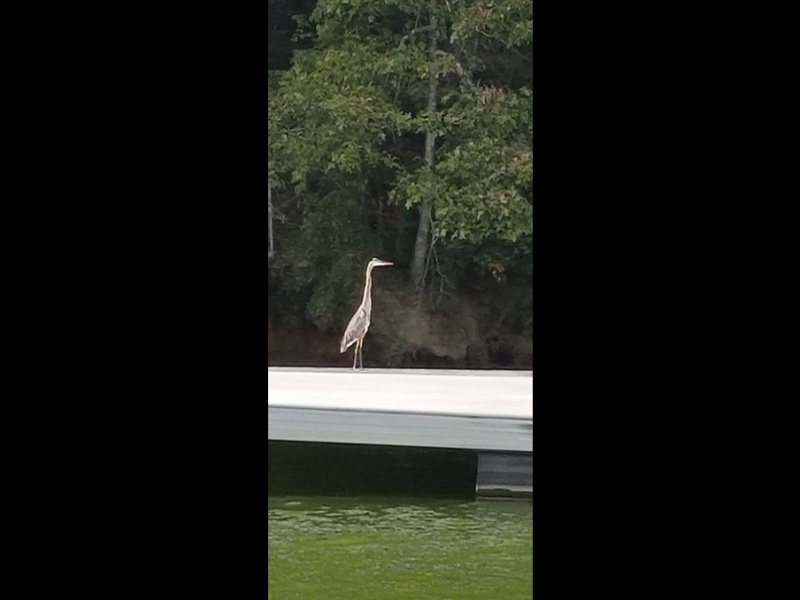heron: (338, 255, 394, 370)
